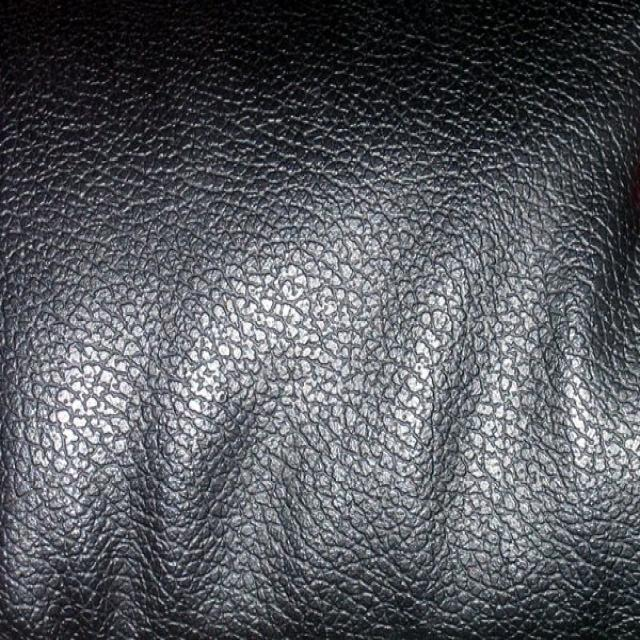Crease: (136, 279, 277, 557), (372, 248, 492, 507), (536, 253, 620, 490)
